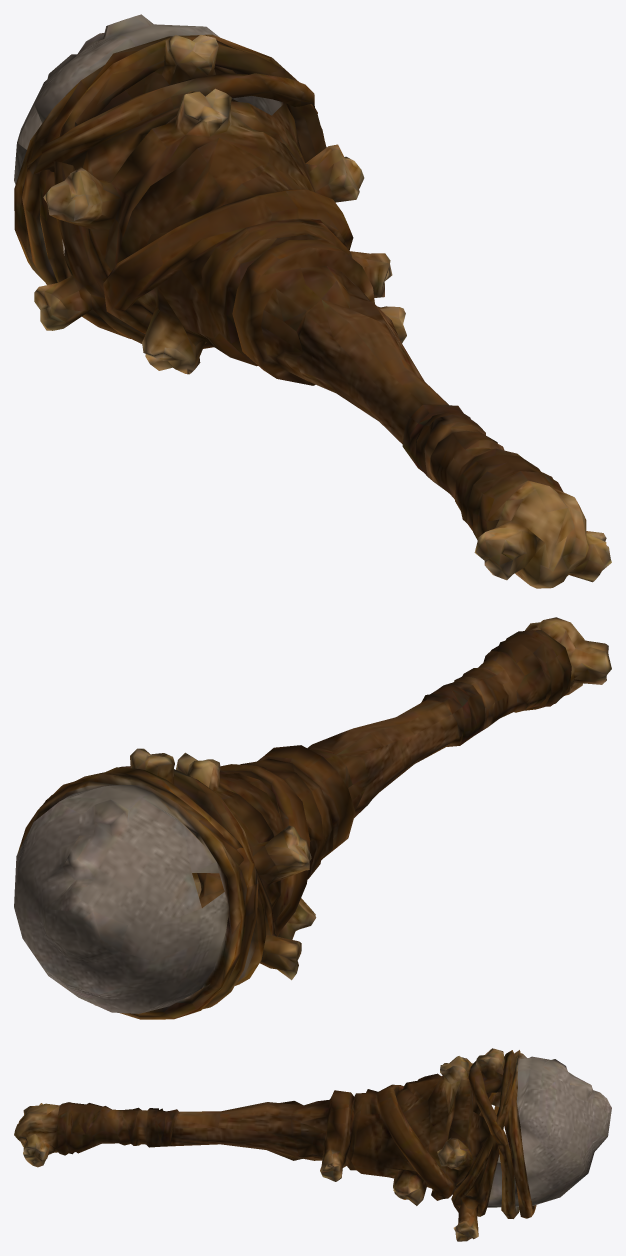
The model's file is alamite_stone_club.glb.
The picture shows the model from 3 angles, top to bottom: view 1: azimuth 30°, elevation 25°; view 2: azimuth 150°, elevation 25°; view 3: azimuth 270°, elevation 25°; orthographic projection. The views are drawn at different scales.
Parts seen in each view (by area): view 1: alamite_stone_club; view 2: alamite_stone_club; view 3: alamite_stone_club.
Boxes of the visible parts, x1=… form: alamite_stone_club: x1=14, y1=14, x2=611, y2=588; alamite_stone_club: x1=14, y1=617, x2=611, y2=1019; alamite_stone_club: x1=14, y1=1048, x2=611, y2=1241.
Bounding box in the file's own units: 0.2216 × 0.1814 × 0.632.
1 material, 1 textured.
